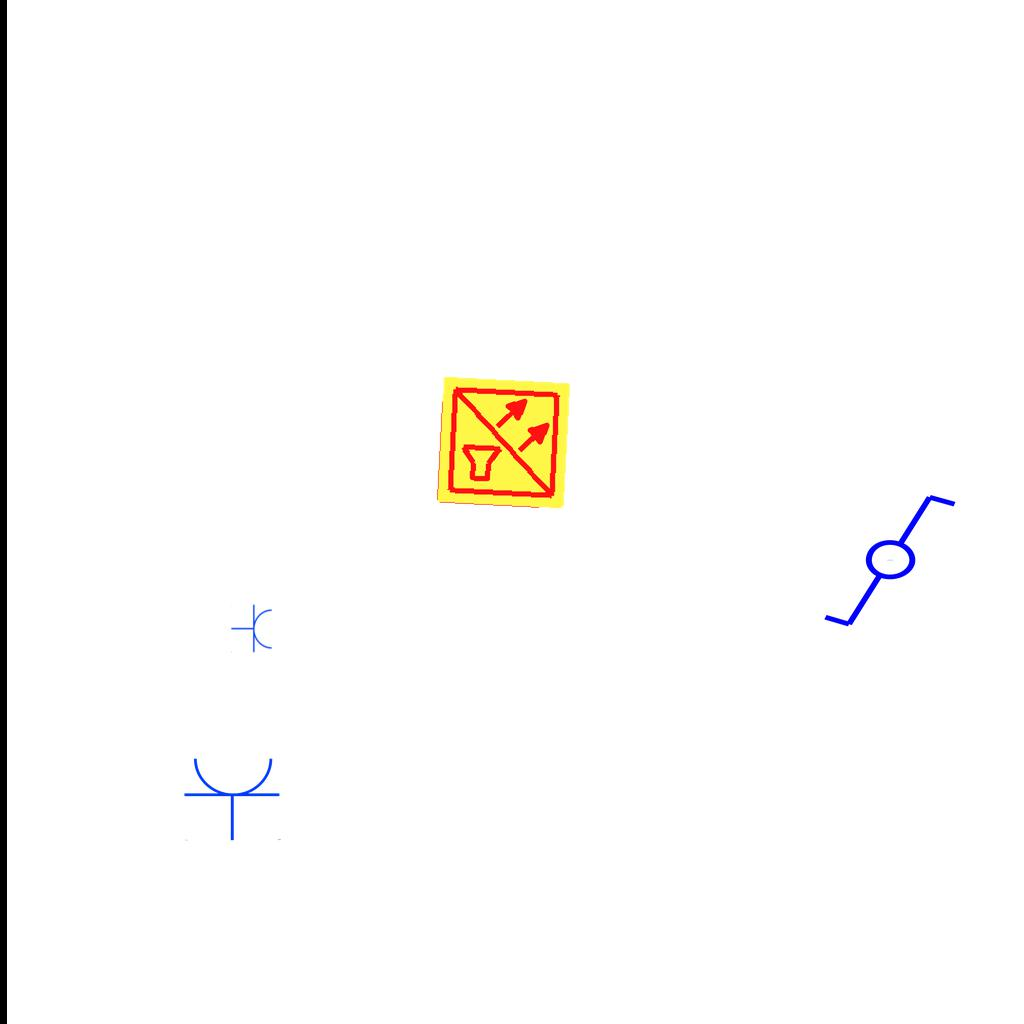OKW_Multisensormelder_(Kombination_optischer_Rauch-Kahlenmonoxid_Waerme-Melder): (434, 373, 574, 513)
Schukosteckdose_einfach: (183, 754, 283, 841), (231, 604, 274, 654)
Wechselschalter: (820, 490, 977, 634)
